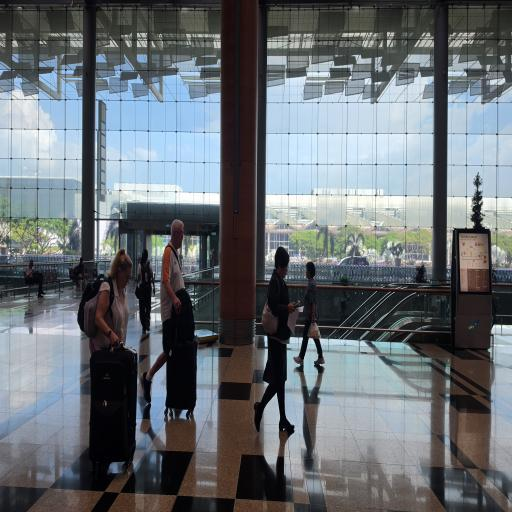person_left: (298, 266, 324, 366)
person_right: (260, 238, 296, 438)
person_with_luggage_right: (82, 248, 136, 460), (148, 216, 202, 422)
